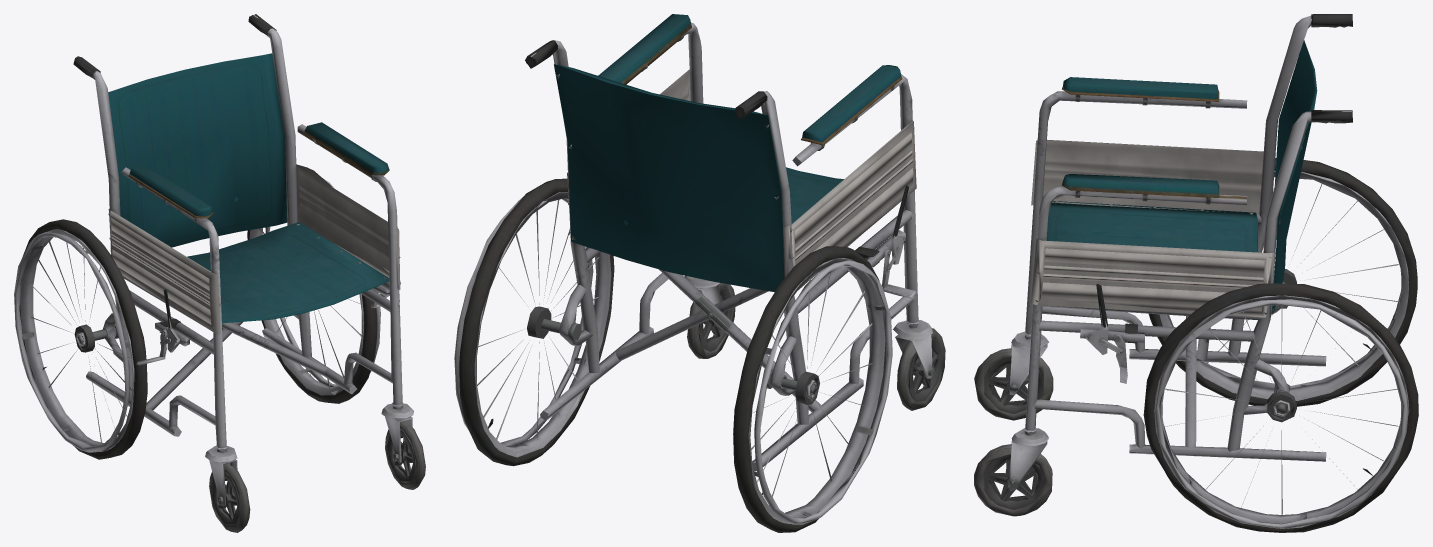
Rendered from wheelchair_01.glb.
The picture shows the model from 3 angles, left to right: view 1: azimuth 30°, elevation 25°; view 2: azimuth 150°, elevation 25°; view 3: azimuth 270°, elevation 25°; orthographic projection. The views are drawn at different scales.
Visible parts, largest first — view 1: wheelchair_01; view 2: wheelchair_01; view 3: wheelchair_01.
Boxes of the visible parts, <box> form: wheelchair_01: <box>14,14,425,532</box>; wheelchair_01: <box>454,14,945,532</box>; wheelchair_01: <box>974,14,1418,532</box>.
Bounding box in the file's own units: 0.824 × 1.1 × 1.09.
1 material, 1 textured.
